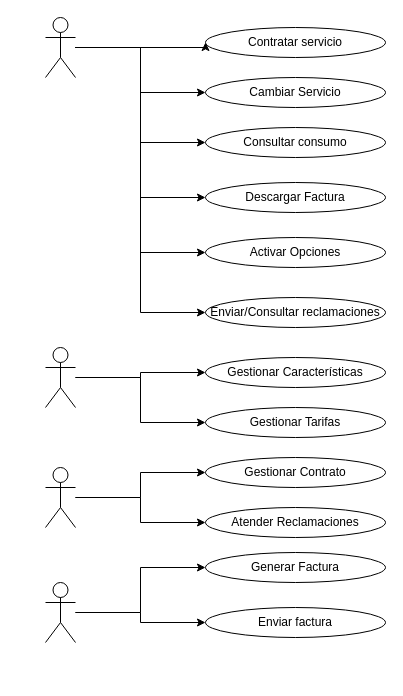
Some shapes in this 403 by 696 pixel diagram are drawn without their labels. The centre of each missing label's shape, as x and y in pixels:
"Cliente" goes at pixel 60 47.
"Empleado Atención Cliente" goes at pixel 60 497.
"Empleado Finanzas" goes at pixel 60 612.
"Empleado Ventas" goes at pixel 60 377.
